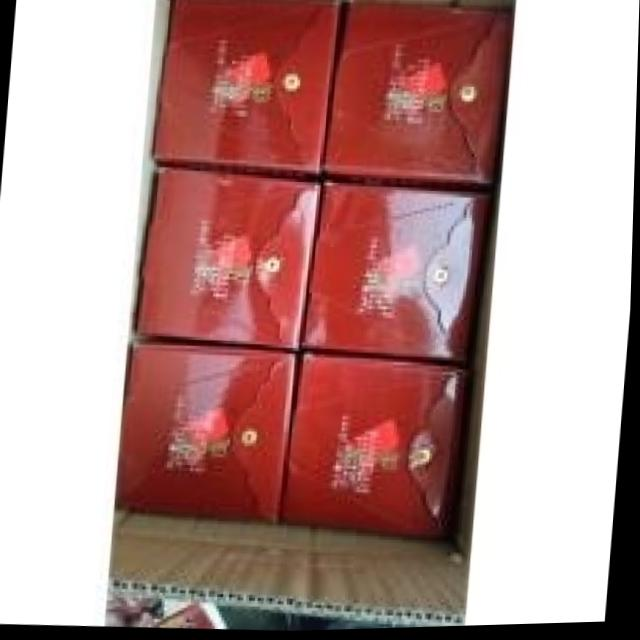box: (326, 2, 513, 198), (155, 0, 347, 184), (282, 359, 476, 541), (304, 182, 490, 369), (136, 168, 322, 353), (118, 337, 298, 527)
